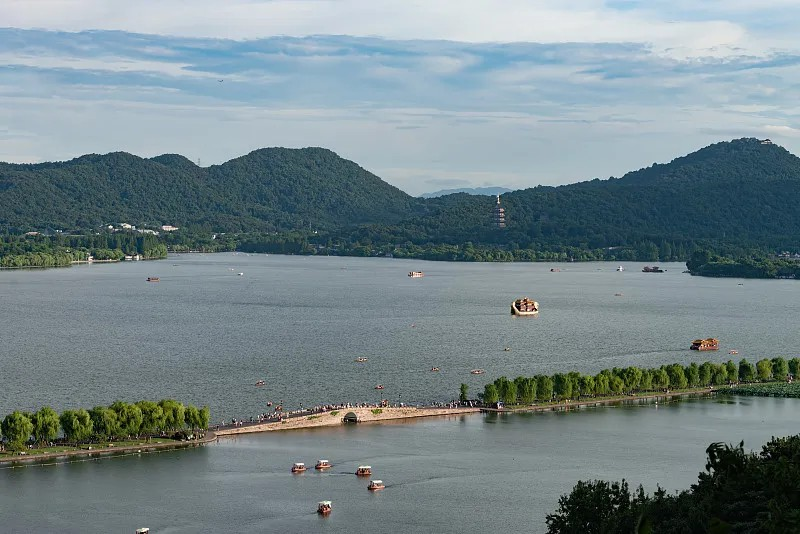Leifeng: (488, 191, 506, 229)
